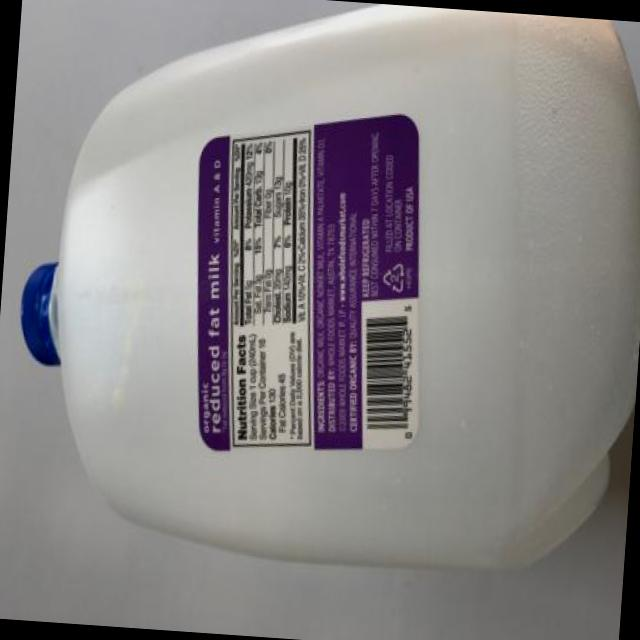Trash: (4, 0, 640, 578)
